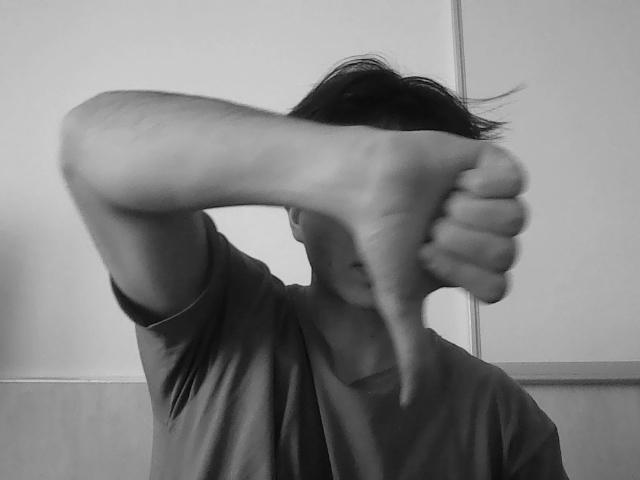bad: (330, 92, 526, 392)
